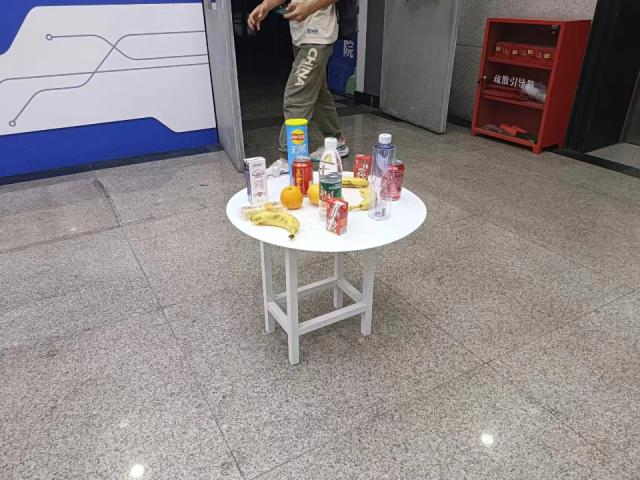Canned_drinks: (380, 159, 406, 203), (292, 156, 315, 196)
bottle: (368, 133, 396, 224), (318, 136, 344, 222)
cylinder: (284, 117, 312, 188)
drink_box: (243, 156, 270, 203), (327, 197, 348, 236), (354, 154, 371, 180)
